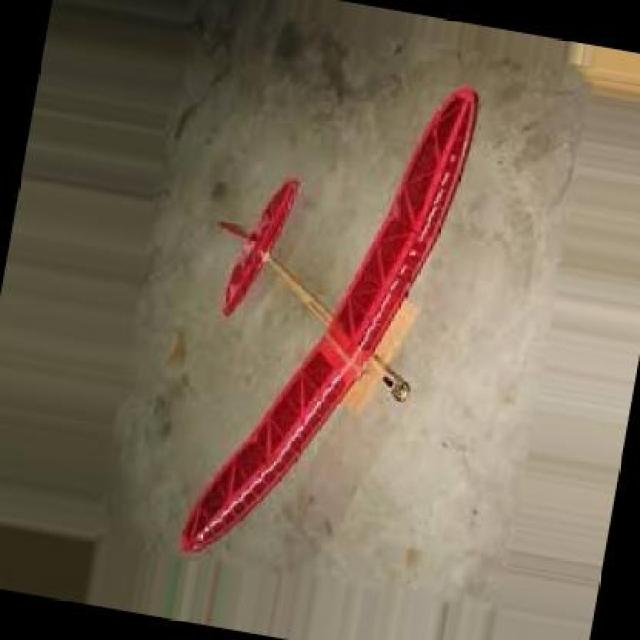iha: (167, 87, 474, 558)
